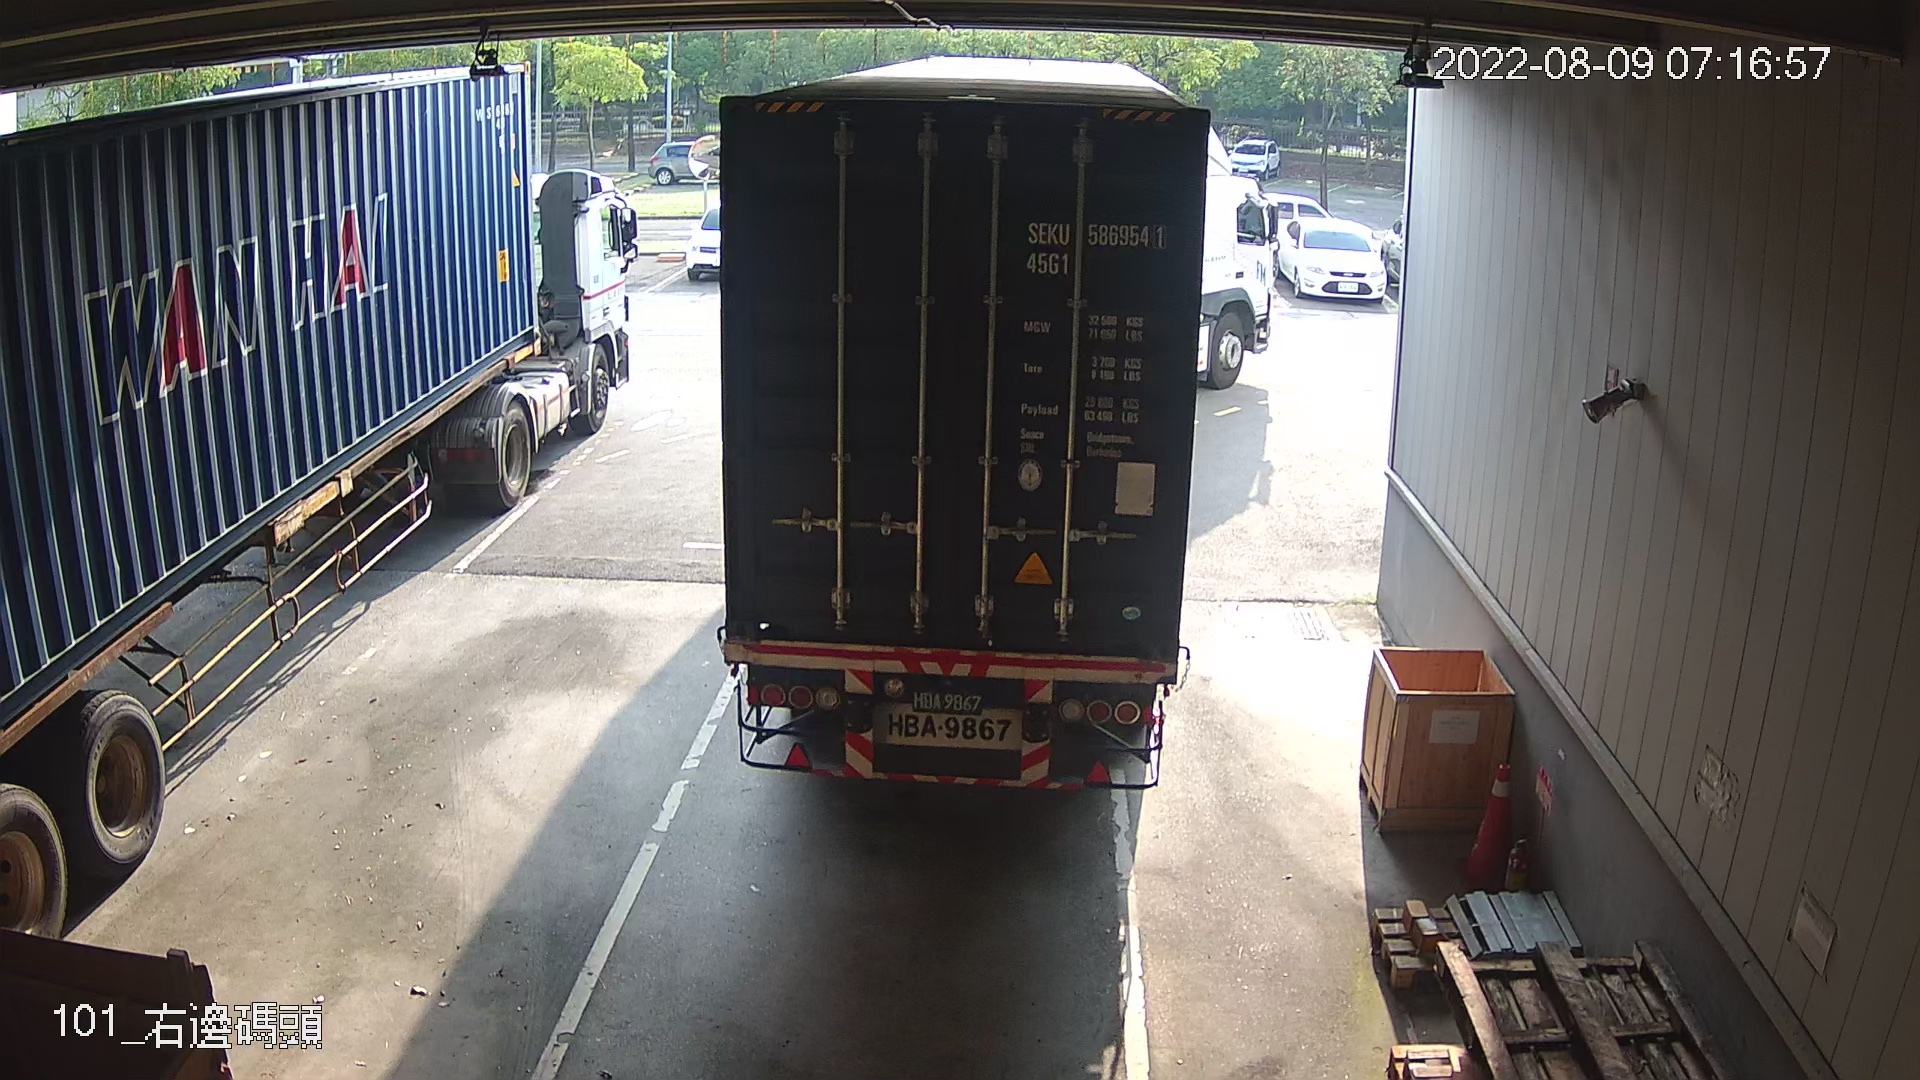container: (1017, 210, 1174, 287)
